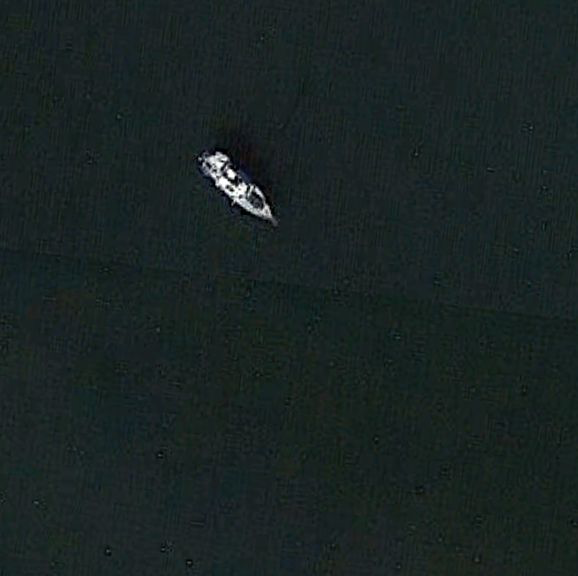boat: (197, 150, 274, 223)
